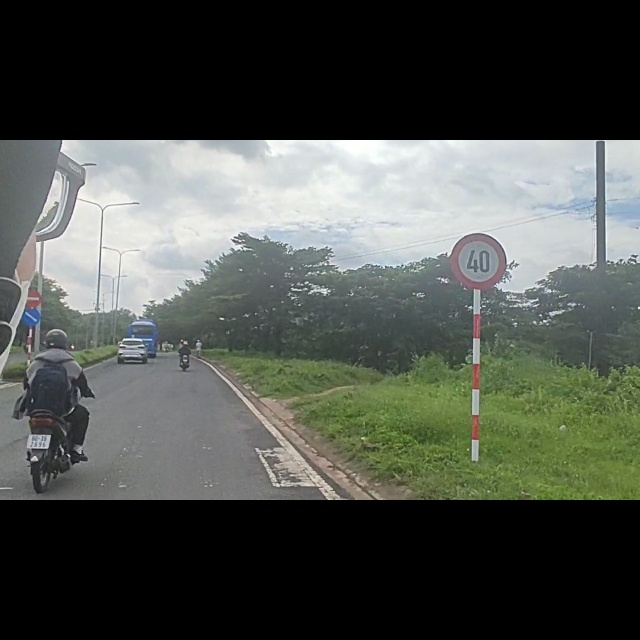bien_cam: (447, 165, 511, 265), (24, 264, 43, 300), (21, 301, 41, 332)
